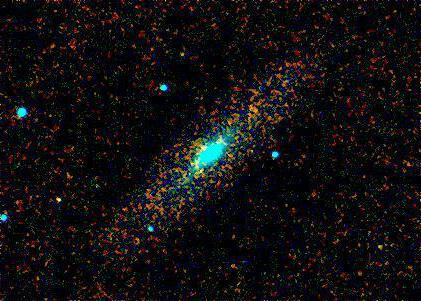star: (44, 185, 74, 215)
